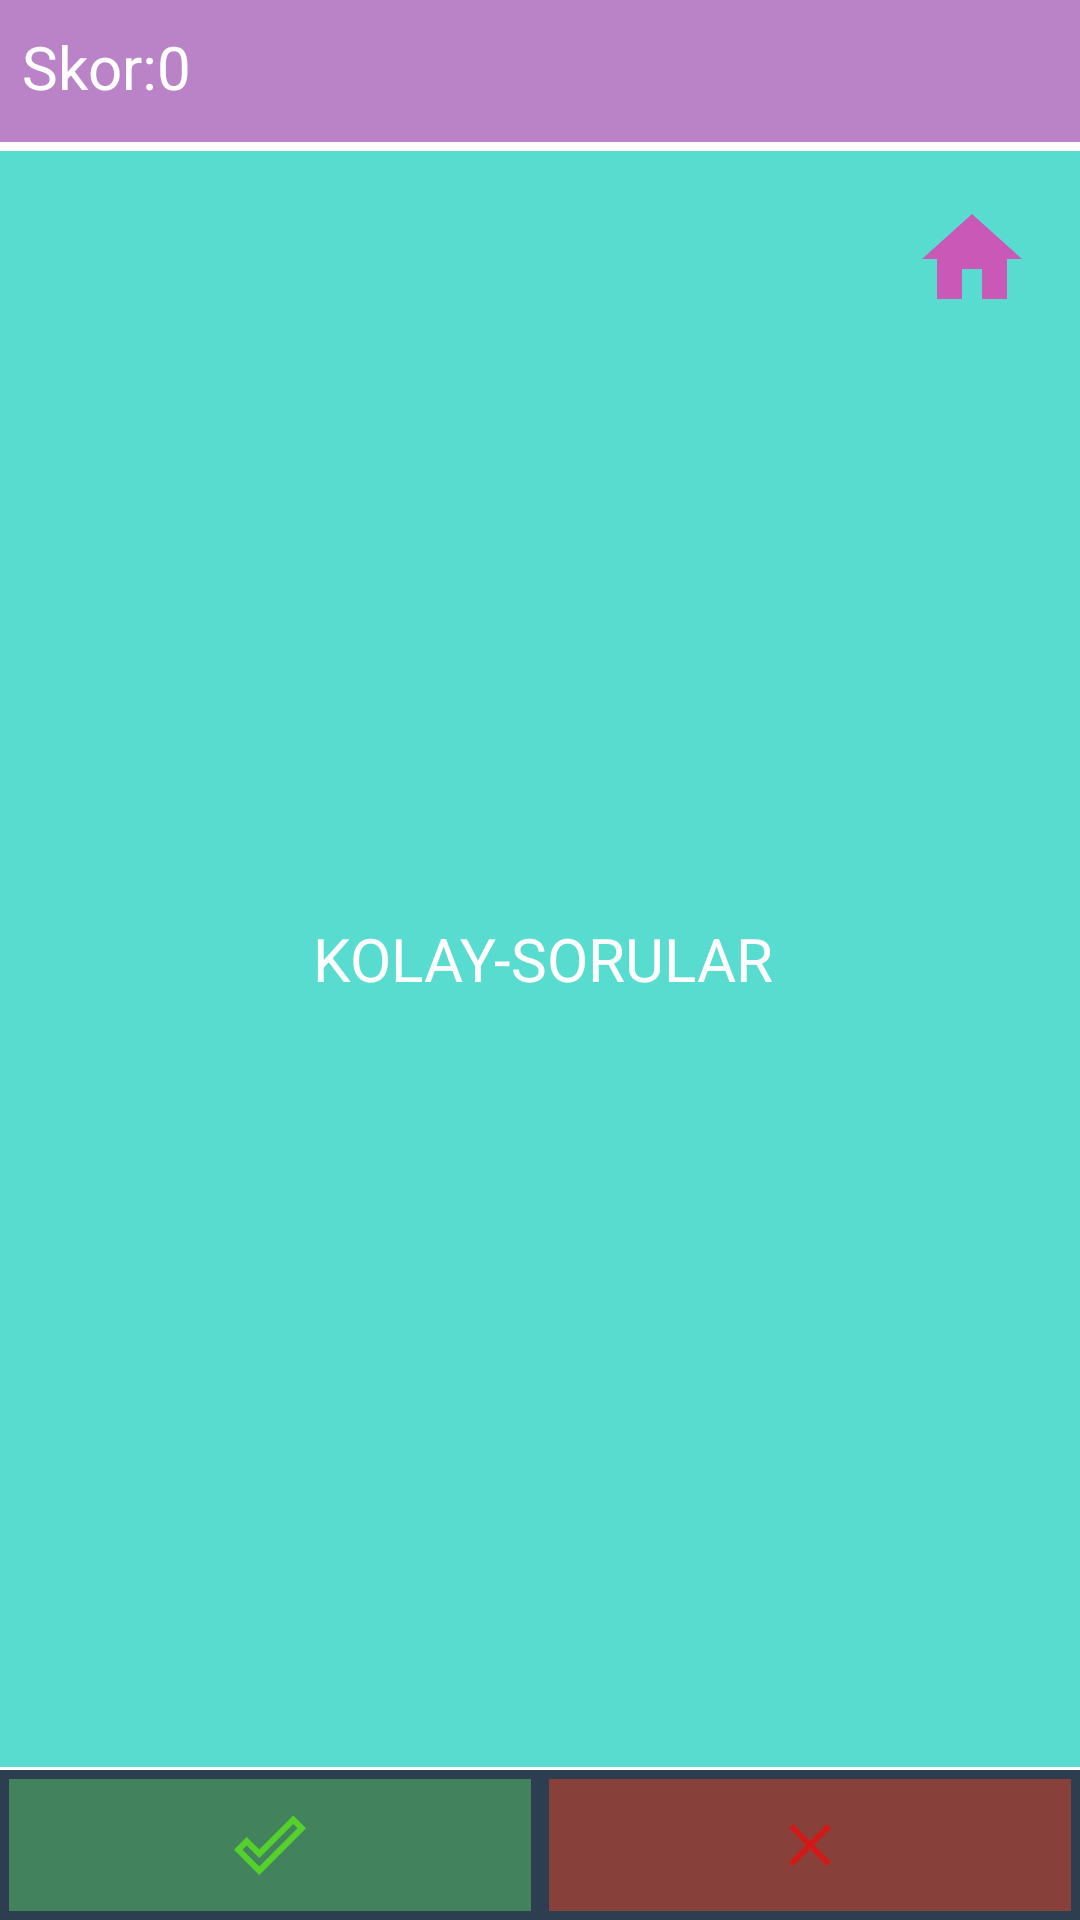

Icon click points for this 1080x1920 phone screenshot, format (x=x, y=y):
anasayfa: (x=972, y=256)
